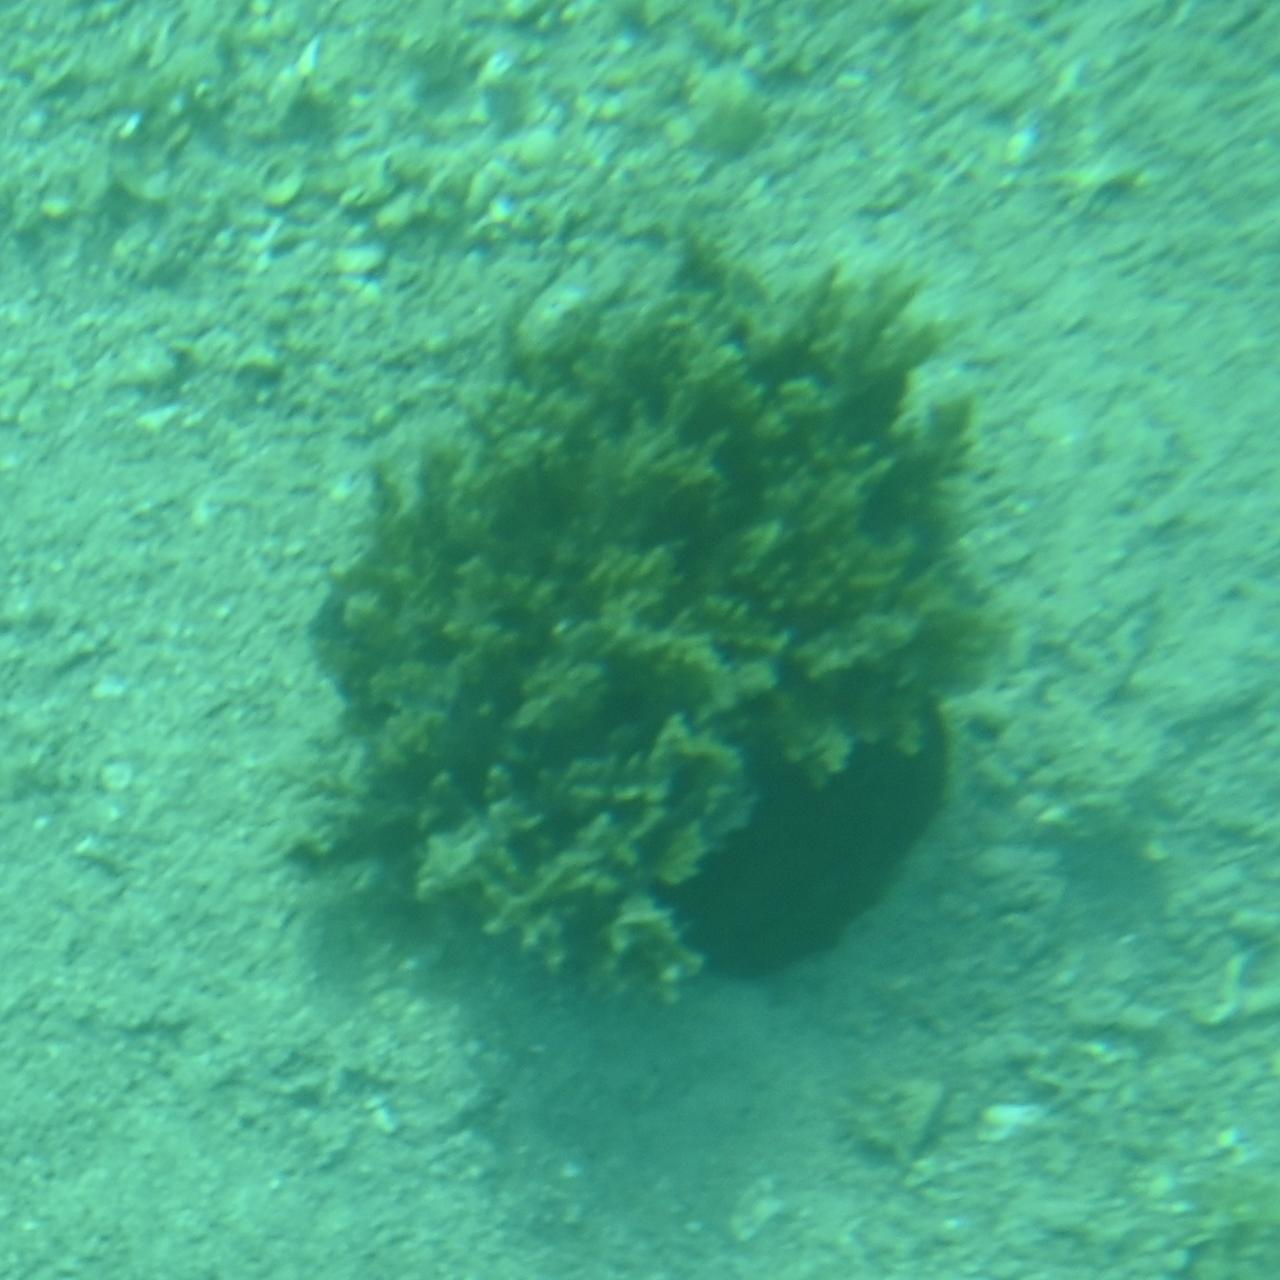Phaeophyceae -cfr Cystoseira-: (260, 238, 1020, 1042)
